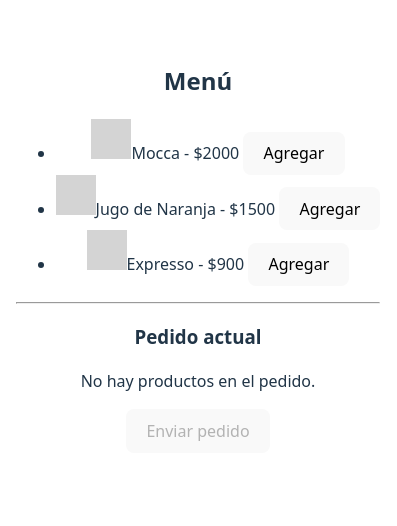
Test: Componente Menu › HU5 - debería enviar el pedido y mostrar un mensaje de confirmación
# Agregar productos al pedido
Click the button "Agregar" in the row of "Mocca".
click(294, 153)  # box [243,132,345,175]
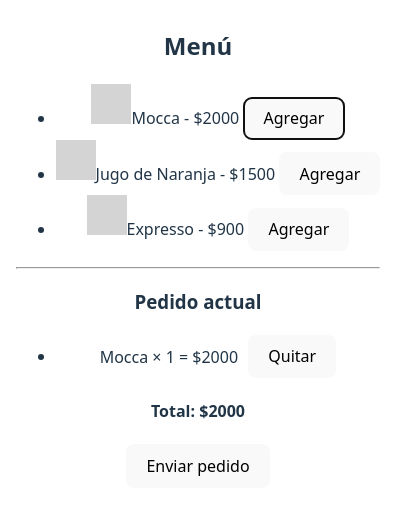
Click the button "Agregar" in the row of "Jugo de Naranja".
click(330, 174)  # box [279,152,380,196]
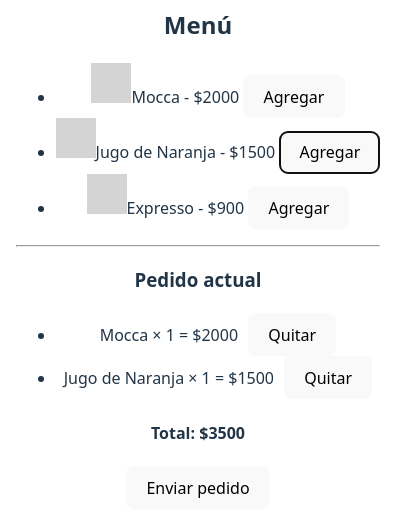
# Buscar y apretar el botón de enviar
Click the button "Enviar pedido".
click(198, 488)  # box [126,466,270,509]
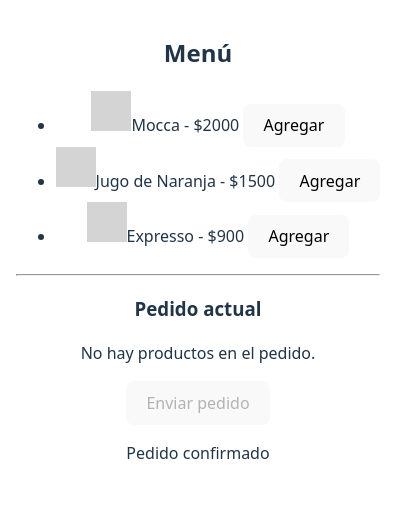
Now the text "Pedido confirmado" is shown, box [126,442,270,464]
